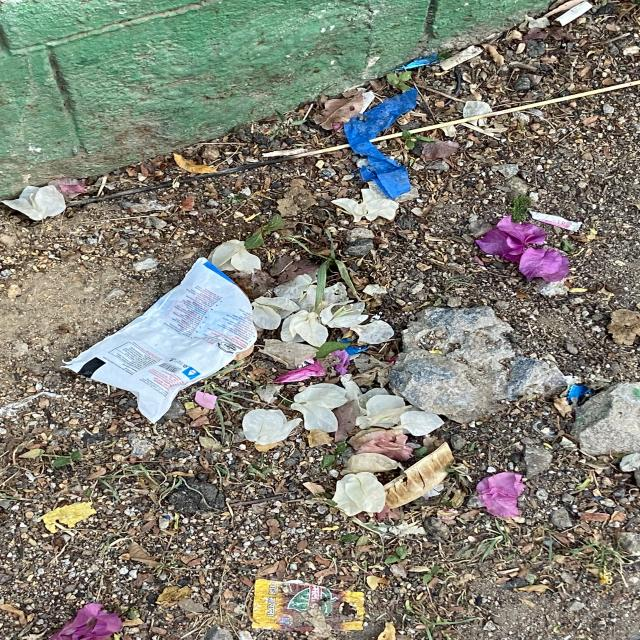plastic: (344, 88, 418, 198)
wrapper: (63, 257, 256, 422), (252, 581, 364, 633)
